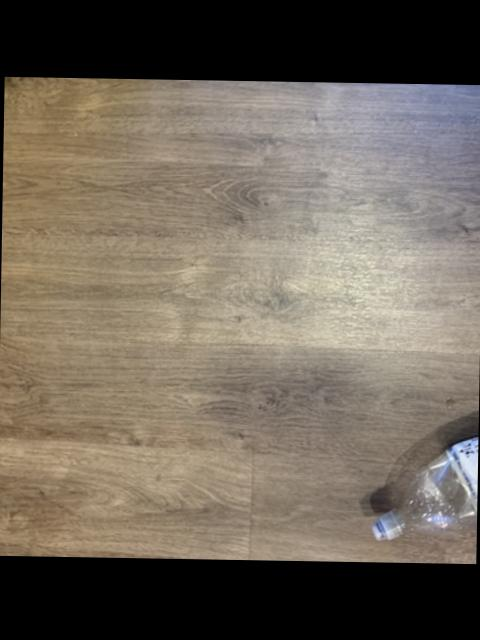plastic: (371, 434, 478, 536)
